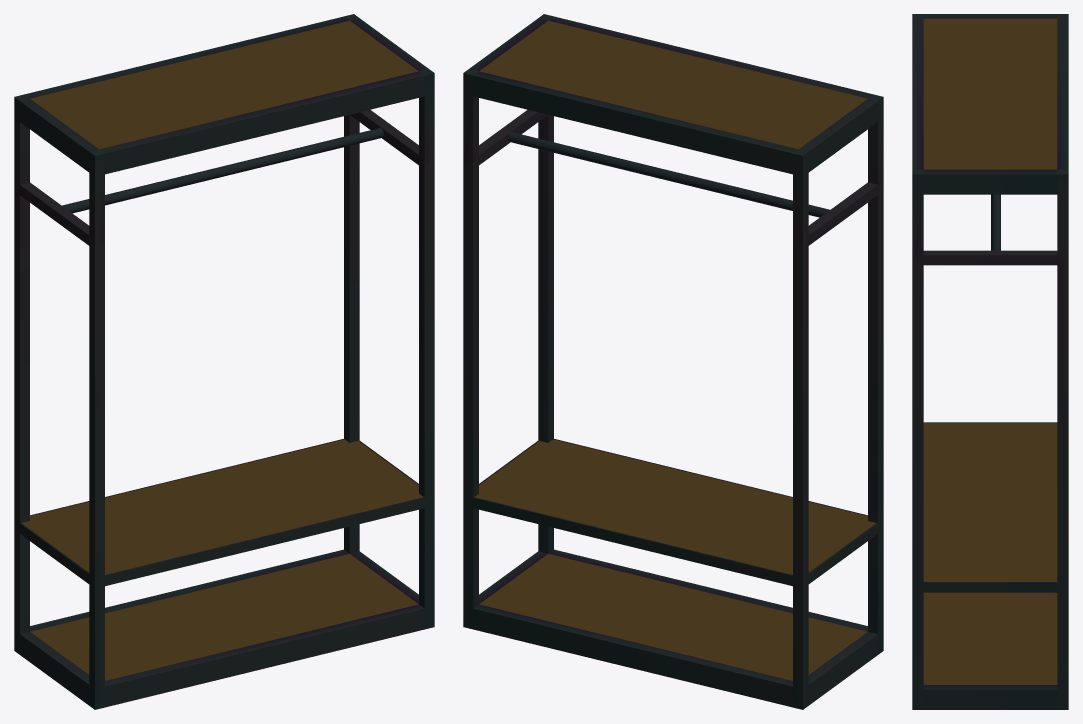
3 renders of one model, left to right at view 1: azimuth 30°, elevation 25°; view 2: azimuth 150°, elevation 25°; view 3: azimuth 270°, elevation 25°, orthographic. The views are drawn at different scales.
Visible parts, largest first — view 1: shelf_panel, top_panel, base_panel, post, post.001, top_rim, base_rim, shelf_edge, hanging_rail; view 2: shelf_panel, top_panel, base_panel, post, post.001, top_rim, base_rim, shelf_edge, hanging_rail; view 3: shelf_panel, top_panel, post.001, base_panel, top_rim, base_rim, shelf_edge, hanging_rail.
Boxes of the visible parts, x1,y1,x2,y2 form: shelf_panel: (22,439,423,574); top_panel: (30,20,418,149); base_panel: (30,553,418,680); post: (14,94,104,709); post.001: (344,14,434,629); top_rim: (20,16,428,174); base_rim: (20,549,424,707); shelf_edge: (20,439,424,586); hanging_rail: (62,128,383,213); shelf_panel: (474,439,875,574); top_panel: (479,20,867,149); base_panel: (479,553,867,680); post: (793,94,883,709); post.001: (463,14,553,629); top_rim: (469,16,877,174); base_rim: (473,549,877,707); shelf_edge: (473,439,877,586); hanging_rail: (508,132,829,217); shelf_panel: (923,423,1057,581); top_panel: (923,18,1057,169); post.001: (912,169,1068,709); base_panel: (923,592,1057,684); top_rim: (912,14,1068,194); base_rim: (923,685,1057,709); shelf_edge: (923,422,1057,592); hanging_rail: (991,194,1000,250).
Size of the model in its own units: 1.16 by 1.8 by 0.4756.
